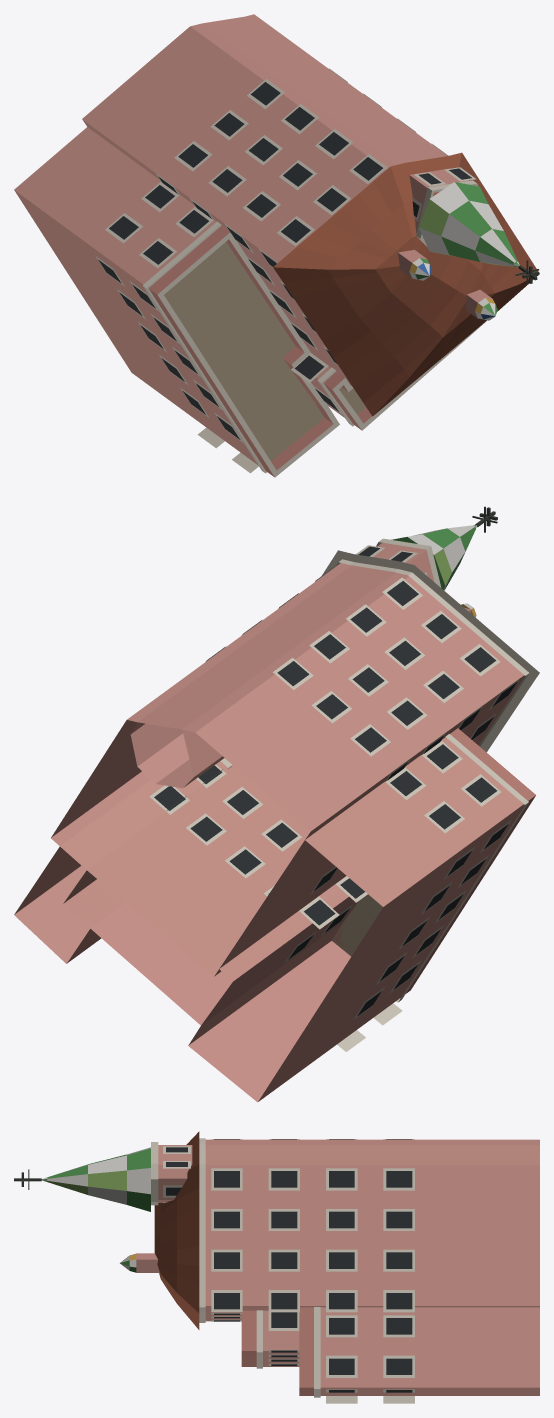
The model's file is casa-museu-gaudi.glb.
The picture shows the model from 3 angles, top to bottom: view 1: azimuth 30°, elevation 25°; view 2: azimuth 150°, elevation 25°; view 3: azimuth 270°, elevation 25°; orthographic projection. The views are drawn at different scales.
Visible parts, largest first — view 1: casa-museu-gaudi; view 2: casa-museu-gaudi; view 3: casa-museu-gaudi.
Part boxes in pixels (x1,y1,x2,y2): casa-museu-gaudi: [14, 14, 539, 477]; casa-museu-gaudi: [14, 506, 539, 1102]; casa-museu-gaudi: [14, 1131, 539, 1403].
Size of the model in its own units: 18.33 by 17.34 by 28.4.
